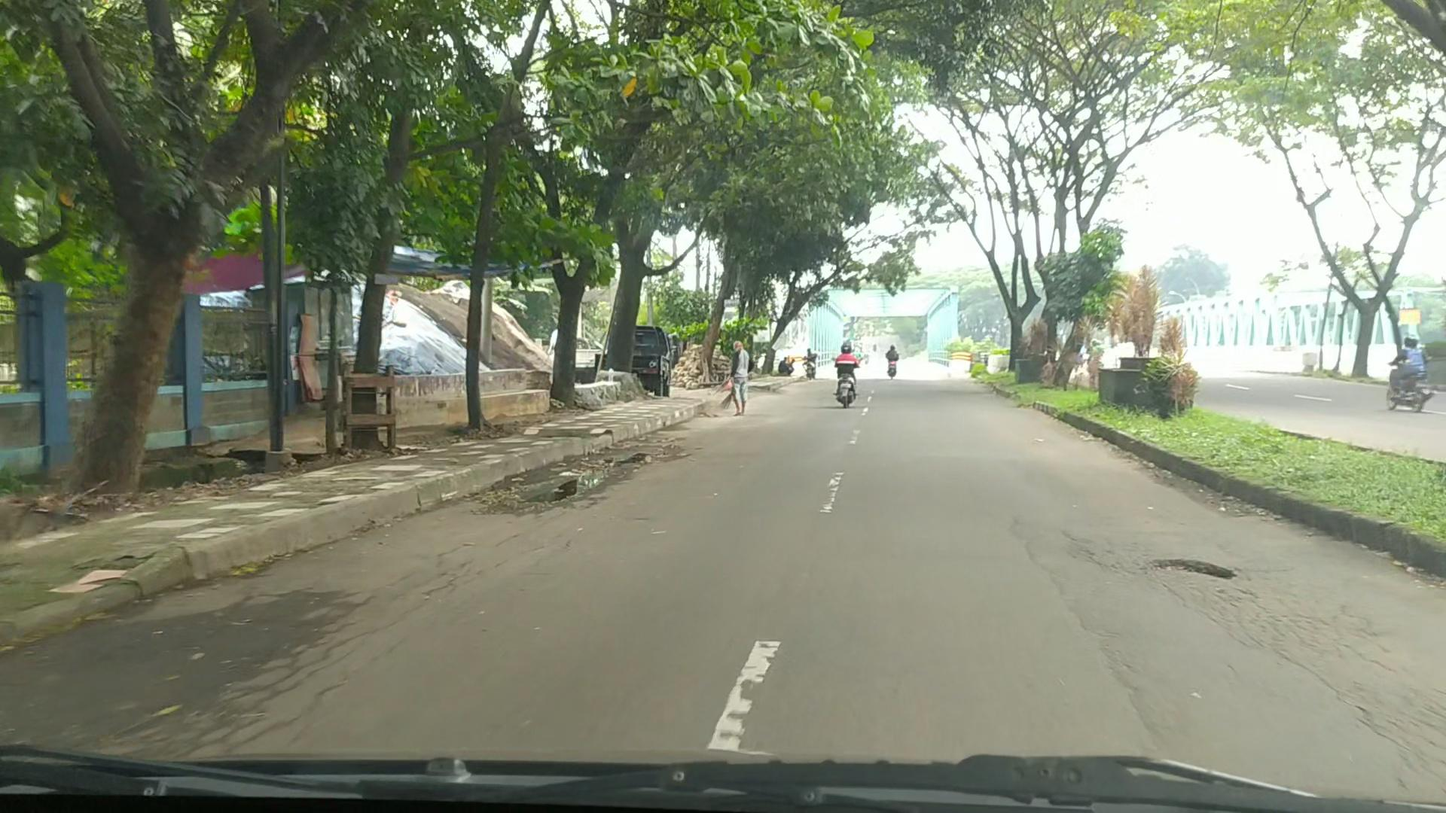pothole: (1157, 556, 1230, 576)
